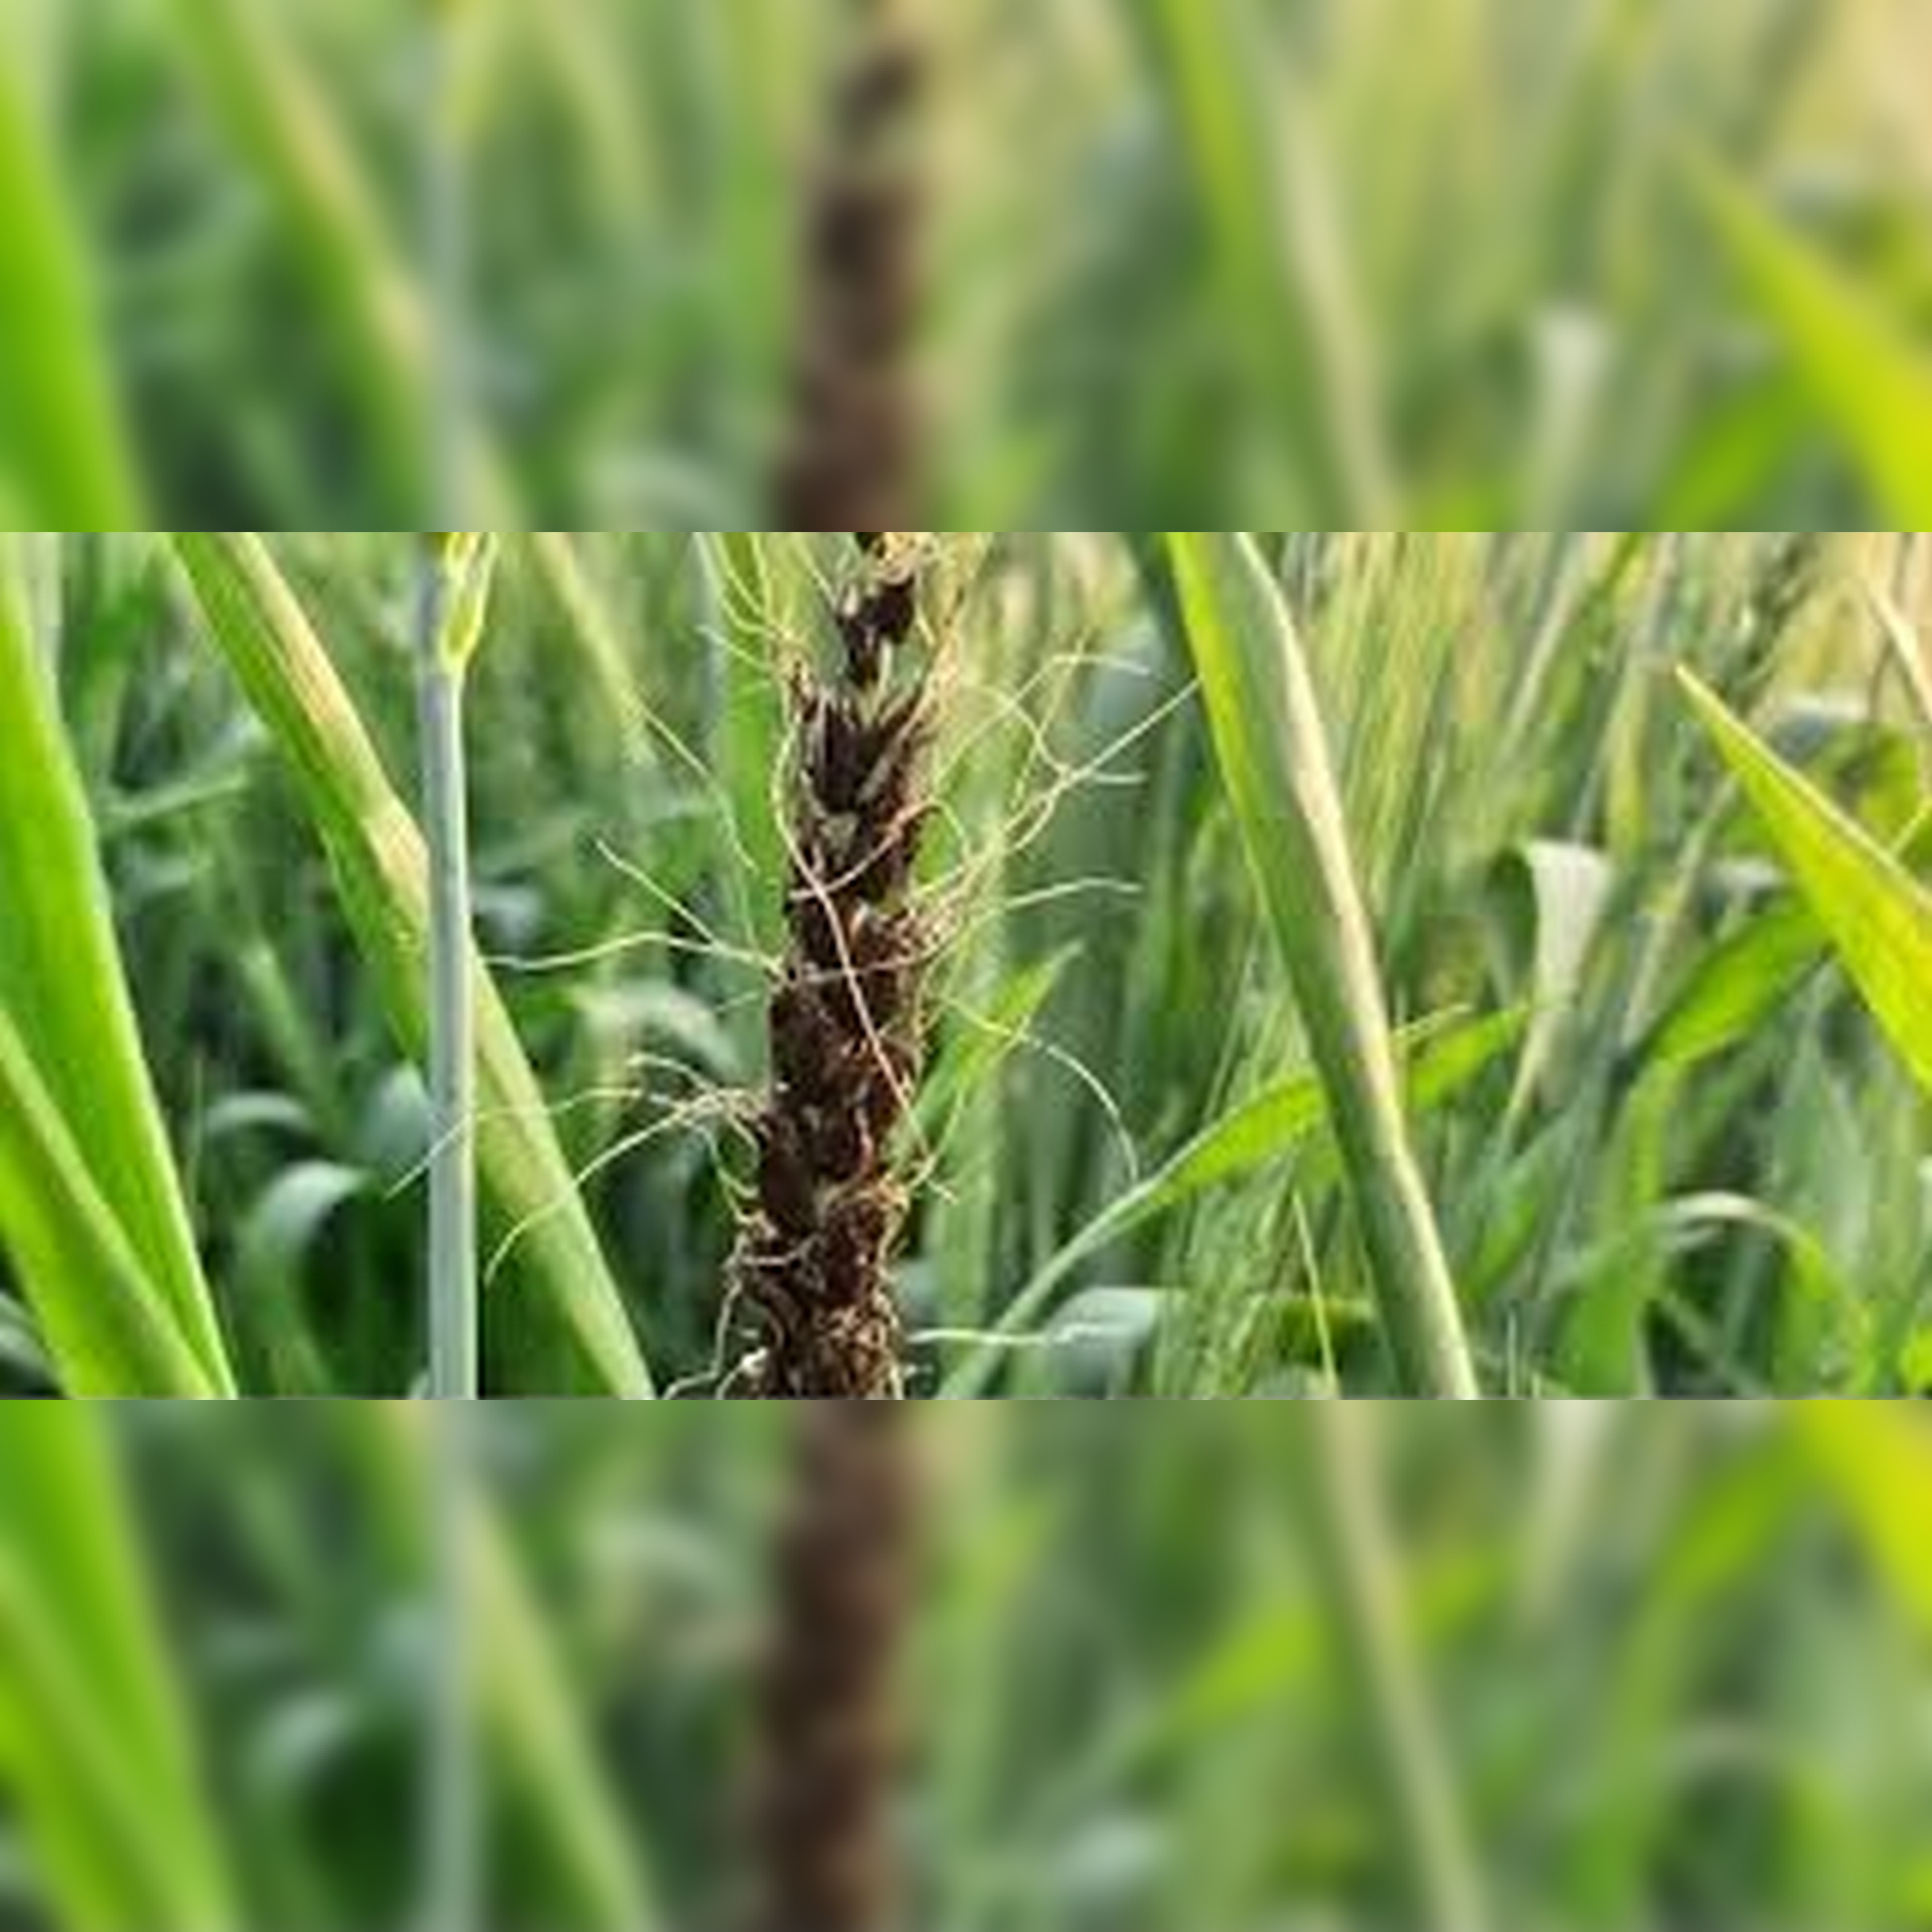Wheat Loose Smut: (699, 545, 993, 1396)
